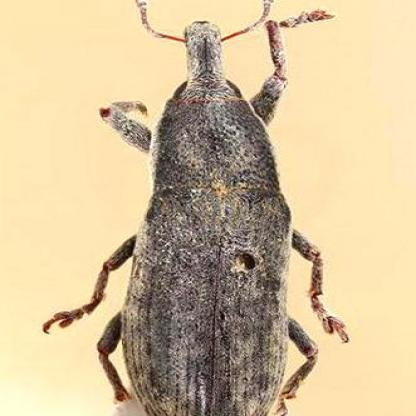rice-bug: (46, 2, 338, 416)
